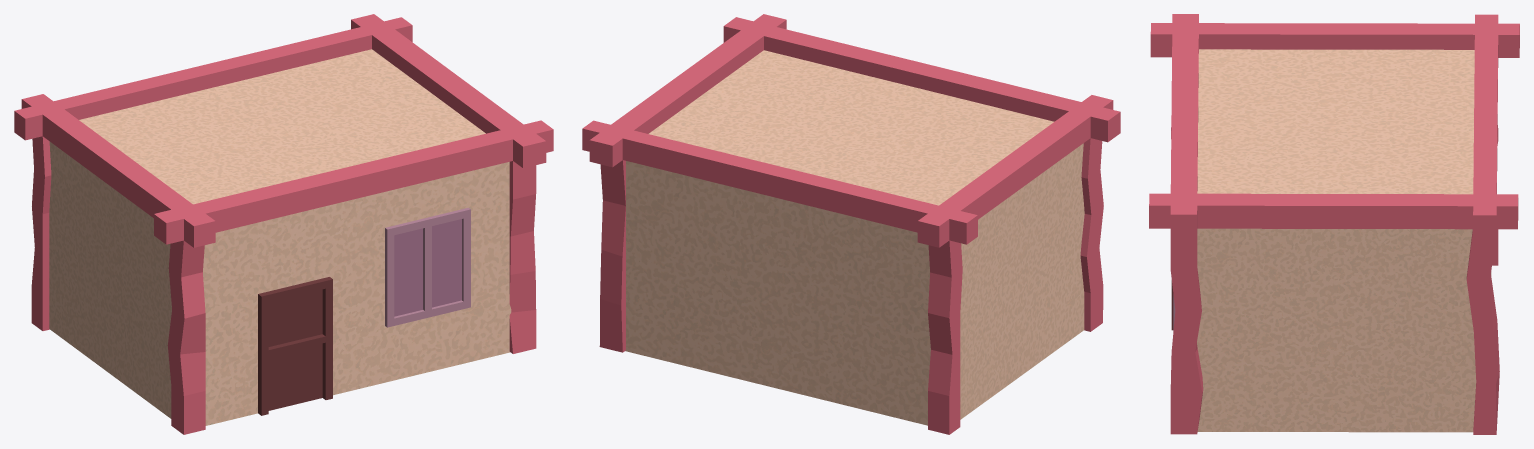
The model's file is Yellow pink house.fbx.
The picture shows the model from 3 angles, left to right: view 1: azimuth 30°, elevation 25°; view 2: azimuth 150°, elevation 25°; view 3: azimuth 270°, elevation 25°; orthographic projection. The views are drawn at different scales.
Visible parts, largest first — view 1: Cube.047; view 2: Cube.047; view 3: Cube.047.
Part boxes in pixels (left/top/right/bottom): Cube.047: left=14, top=14, right=553, bottom=434; Cube.047: left=582, top=14, right=1120, bottom=434; Cube.047: left=1149, top=14, right=1519, bottom=434.
Size of the model in its own units: 1284 by 686 by 999.
5 materials, 1 textured.
